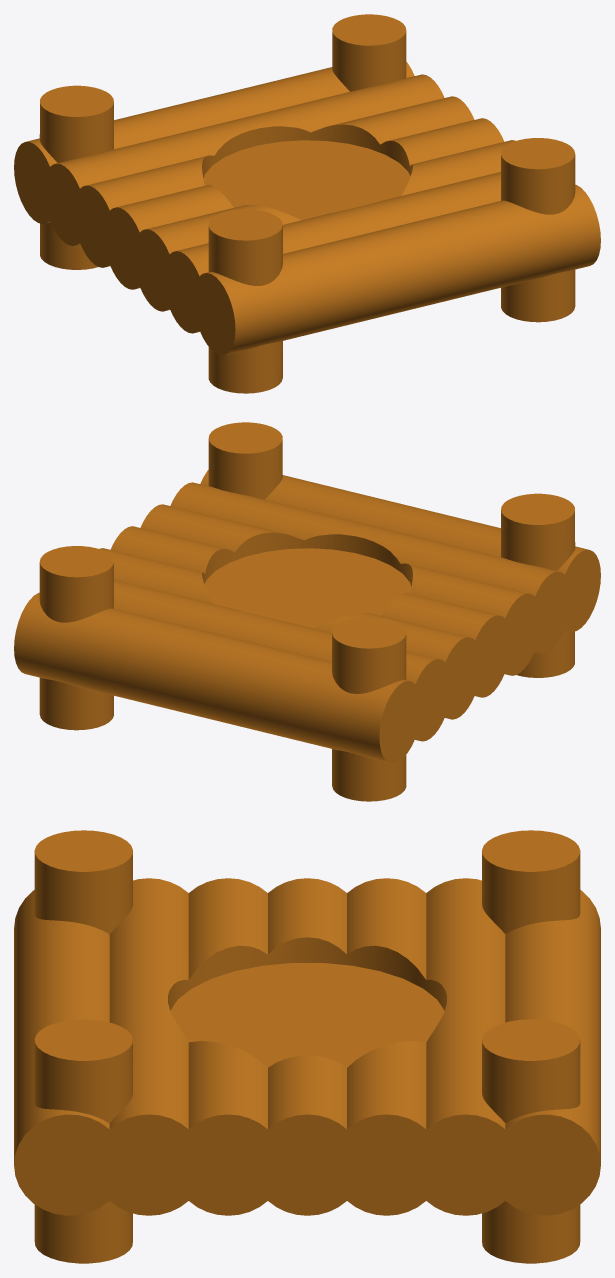
File: port.obj
3 views of the same model, one above another, from view 1: azimuth 30°, elevation 25°; view 2: azimuth 150°, elevation 25°; view 3: azimuth 270°, elevation 25° (orthographic). The views are drawn at different scales.
Visible parts, largest first — view 1: mesh29, mesh21, mesh23, mesh13, mesh2, mesh24, mesh22, mesh27, mesh25, mesh7, mesh1, mesh31 (+12 smaller); view 2: mesh2, mesh21, mesh23, mesh24, mesh29, mesh13, mesh22, mesh1, mesh7, mesh25, mesh27, mesh11 (+12 smaller); view 3: mesh20, mesh23, mesh13, mesh24, mesh2, mesh29, mesh22, mesh16, mesh18, mesh14, mesh19, mesh1 (+11 smaller).
Part boxes in pixels (box(x1,y1,x2,y2)): mesh29: box(205, 184, 600, 354); mesh21: box(14, 142, 235, 355); mesh23: box(203, 140, 410, 220); mesh13: box(57, 74, 444, 188); mesh2: box(26, 62, 414, 223); mesh24: box(177, 172, 500, 275); mesh22: box(202, 124, 412, 178); mesh27: box(208, 225, 282, 285); mesh25: box(501, 154, 575, 214); mesh7: box(332, 31, 406, 91); mesh1: box(39, 102, 113, 162); mesh31: box(208, 341, 282, 393); mesh2: box(14, 592, 409, 762); mesh21: box(379, 550, 600, 763); mesh23: box(204, 548, 411, 628); mesh24: box(170, 482, 557, 596); mesh29: box(200, 470, 588, 631); mesh13: box(114, 580, 437, 683); mesh22: box(202, 532, 412, 586); mesh1: box(332, 633, 406, 693); mesh7: box(39, 562, 113, 622); mesh25: box(208, 439, 282, 499); mesh27: box(501, 510, 575, 570); mesh11: box(332, 749, 406, 801); mesh20: box(14, 1114, 600, 1215); mesh23: box(170, 963, 444, 1067); mesh13: box(426, 878, 505, 1128); mesh24: box(109, 878, 188, 1128); mesh2: box(505, 890, 600, 1163); mesh29: box(14, 890, 109, 1163); mesh22: box(168, 937, 446, 1010); mesh16: box(347, 878, 426, 979); mesh18: box(188, 878, 267, 979); mesh14: box(347, 1041, 426, 1128); mesh19: box(188, 1041, 267, 1128); mesh1: box(482, 851, 580, 934).
Size of the model in its own units: 0.0318 by 0.0127 by 0.0333.
